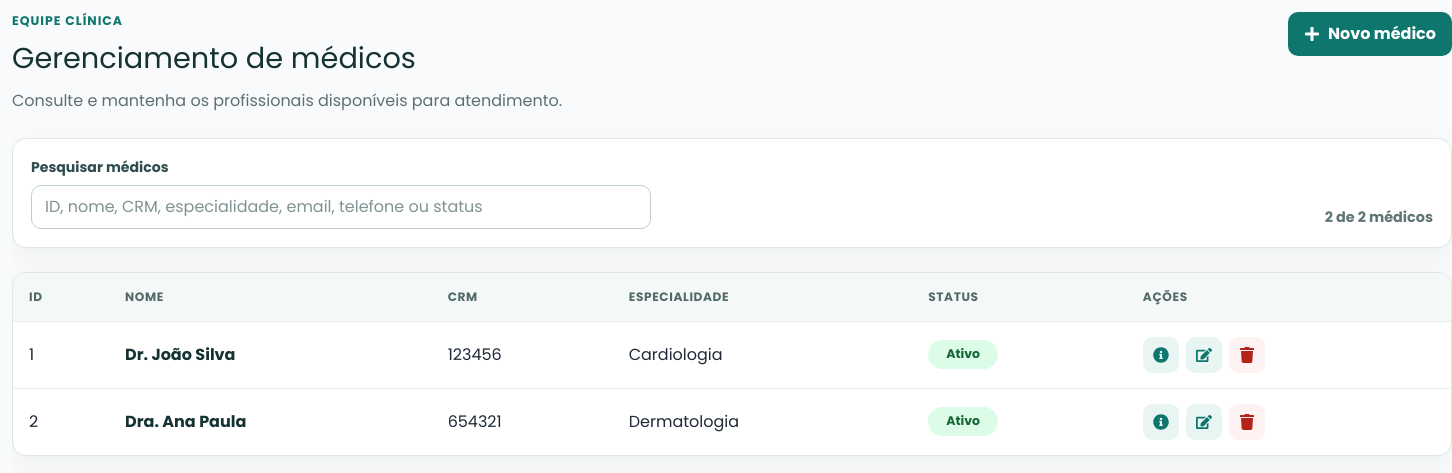
Test: DoctorList Page › pesquisa médicos pelos campos do domínio
Type "joao.silva@hospital.com" into the search field labelled "Pesquisar médicos" at (341, 207), box [31,185,651,229]
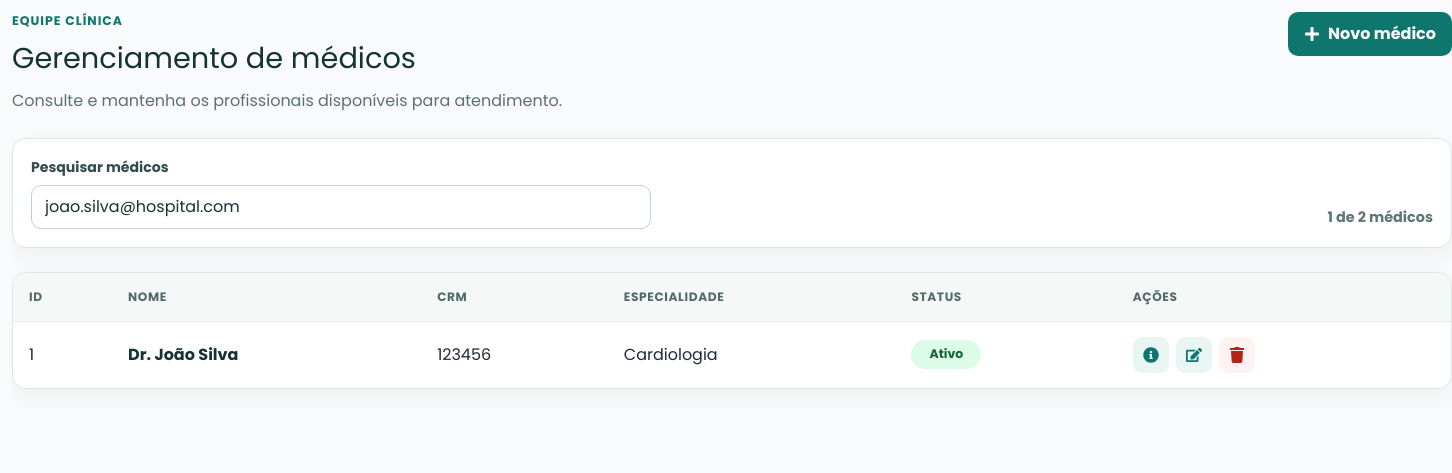
Check: the text "Dr. João Silva" is shown, box [128,343,238,366]
Check: the text "Dra. Ana Paula" is gone
Check: the text "1 de 2 médicos" is shown, box [1328,207,1433,229]
